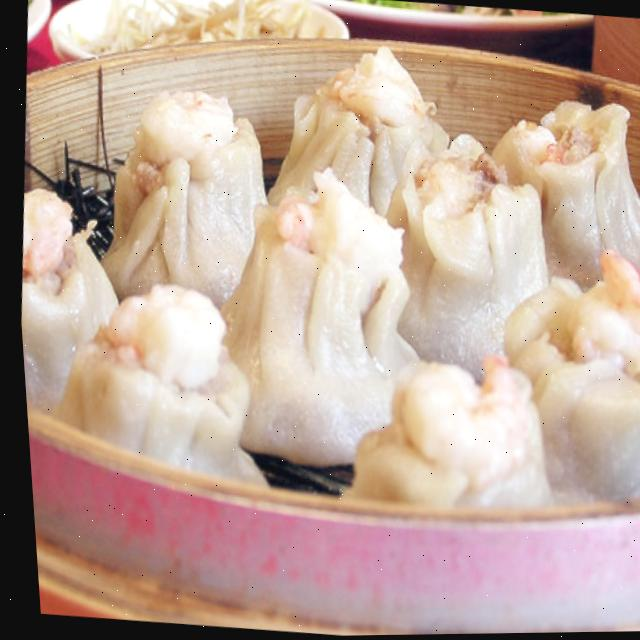带馅早点: (217, 62, 640, 510)
